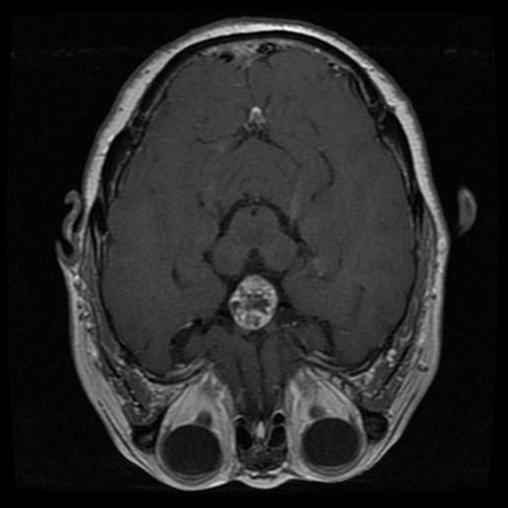Tumour-Pituitary: (228, 273, 279, 331)
